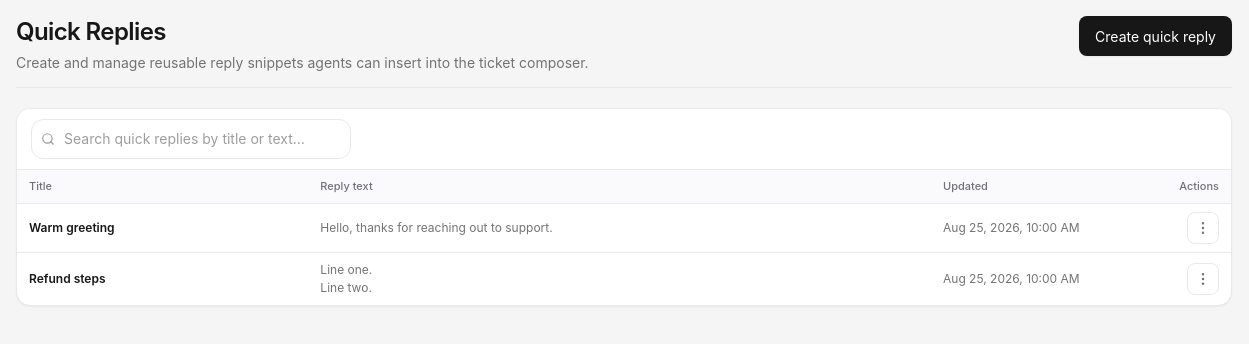
Test: quick replies management › groups Edit and Delete controls inside Actions ellipsis menu with accessible names
Click the button named "Actions" in the row of "Warm greeting" at x=1203, y=228, box [1187,212,1219,244]
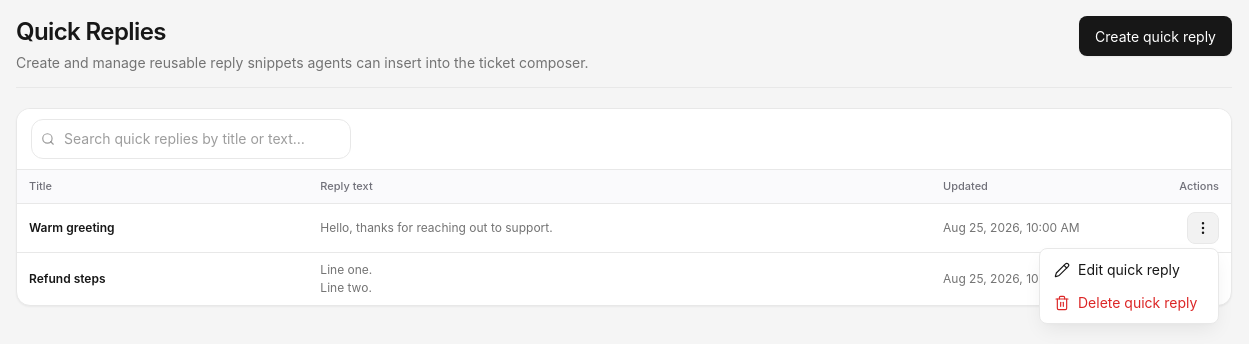
Expected: the text "Aug 25, 2026, 10:00 AM" in the row of "Warm greeting" is shown, [943,220,1080,235]
Expected: the menu item "Edit quick reply" is shown, [1044,253,1214,286]
Expected: the menu item "Delete quick reply" is shown, [1044,286,1214,319]
